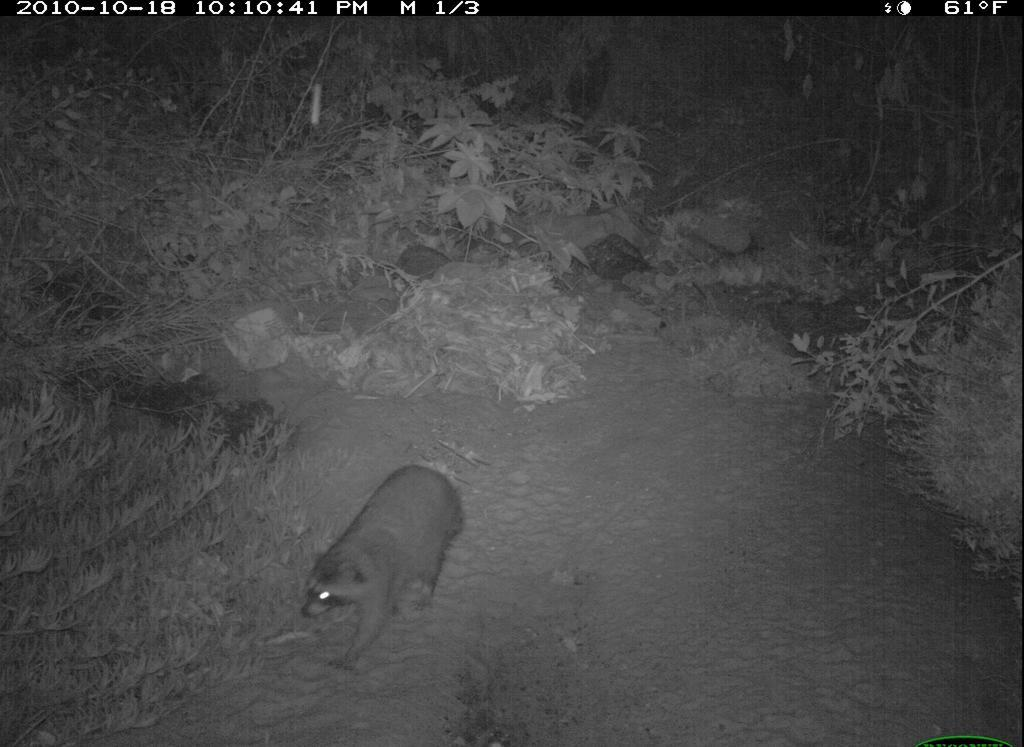raccoon: (303, 449, 468, 651)
